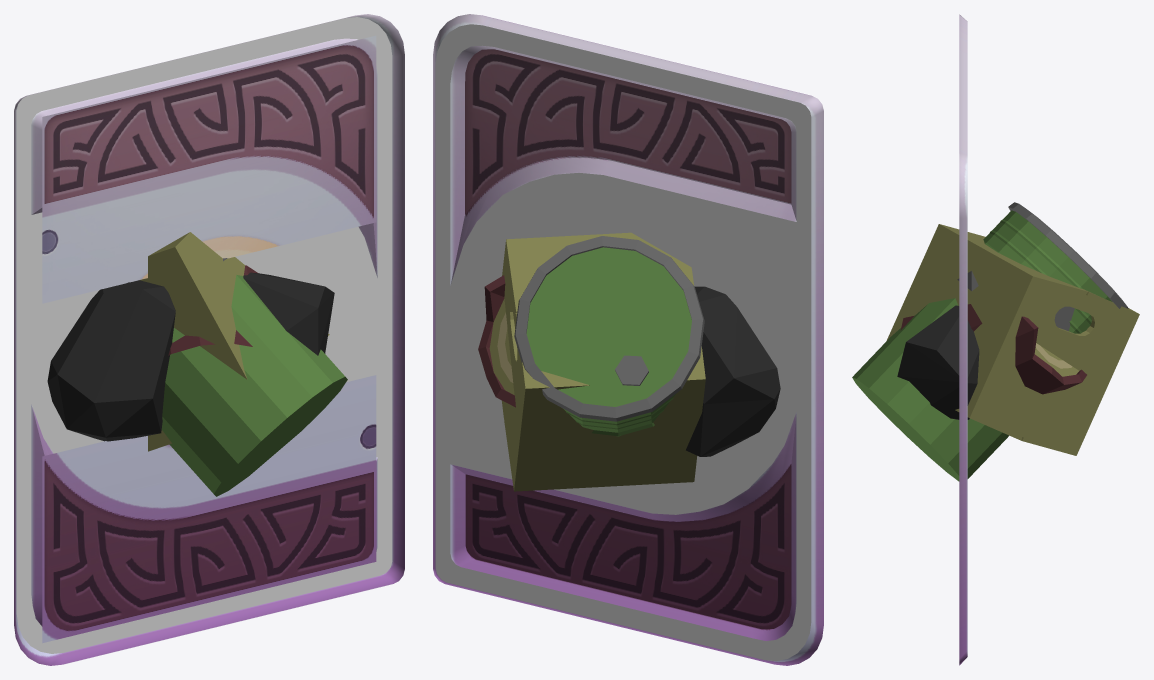
File: card.fbx
3 views of the same model, side by side, from view 1: azimuth 30°, elevation 25°; view 2: azimuth 150°, elevation 25°; view 3: azimuth 270°, elevation 25° (orthographic). The views are drawn at different scales.
Visible parts, largest first — view 1: card, Card_Barrel, card_rock, card_Box, card_wood; view 2: card, Card_Barrel, card_Box, card_rock, card_wood; view 3: card_Box, Card_Barrel, card, card_rock, card_wood.
Part boxes in pixels (x1=…): card: x1=14, y1=14, x2=404, y2=665; Card_Barrel: x1=161, y1=275, x2=347, y2=496; card_rock: x1=47, y1=272, x2=334, y2=441; card_Box: x1=139, y1=232, x2=329, y2=451; card_wood: x1=168, y1=265, x2=258, y2=355; card: x1=433, y1=14, x2=823, y2=665; Card_Barrel: x1=514, y1=236, x2=704, y2=436; card_Box: x1=501, y1=232, x2=705, y2=491; card_rock: x1=686, y1=286, x2=780, y2=456; card_wood: x1=478, y1=275, x2=515, y2=407; card_Box: x1=886, y1=224, x2=1139, y2=455; Card_Barrel: x1=852, y1=202, x2=1128, y2=481; card: x1=959, y1=14, x2=967, y2=665; card_rock: x1=897, y1=305, x2=979, y2=419; card_wood: x1=900, y1=304, x2=1086, y2=394.
Bounding box in the file's own units: 320 × 452 × 238.
